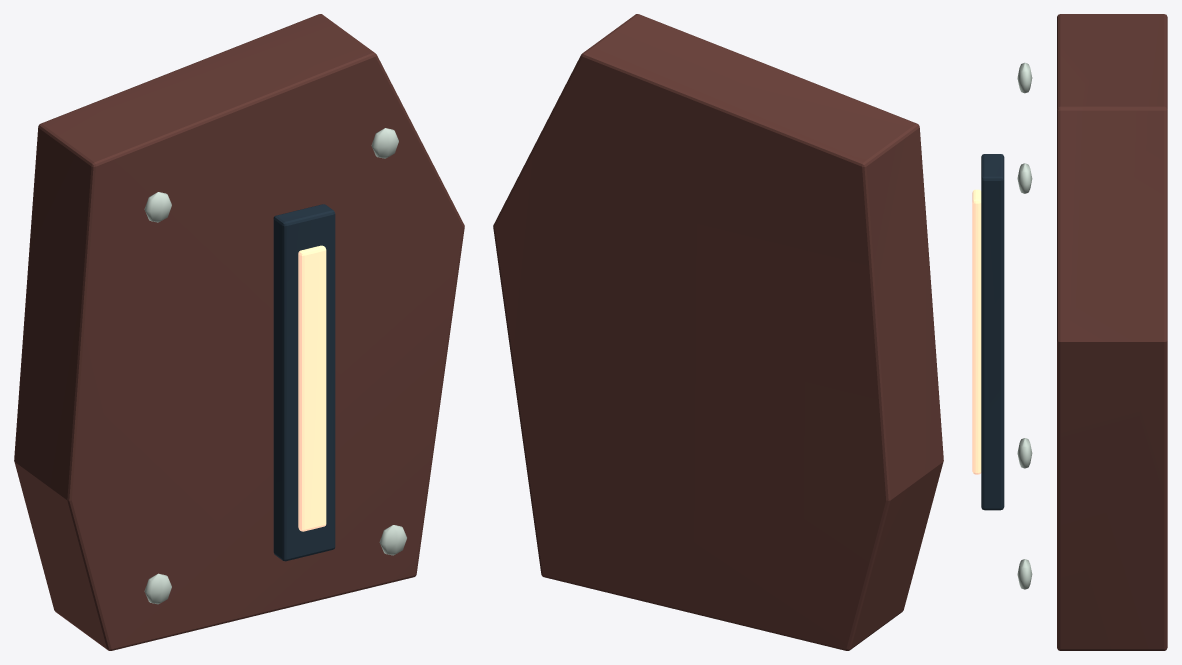
The model's file is item_028.glb.
3 renders of one model, left to right at view 1: azimuth 30°, elevation 25°; view 2: azimuth 150°, elevation 25°; view 3: azimuth 270°, elevation 25°, orthographic.
Visible parts, largest first — view 1: Item_028_slag_tower; view 2: Item_028_slag_tower; view 3: Item_028_slag_tower.
Boxes of the visible parts, <box> form: Item_028_slag_tower: <box>14,14,464,650</box>; Item_028_slag_tower: <box>493,14,943,650</box>; Item_028_slag_tower: <box>972,14,1167,650</box>.
Size of the model in its own units: 0.49 by 0.6295 by 0.212.
